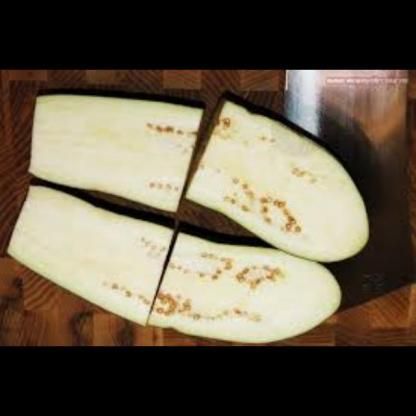eggplant: (180, 87, 394, 270), (13, 94, 216, 209), (149, 246, 346, 341), (10, 219, 184, 323)
